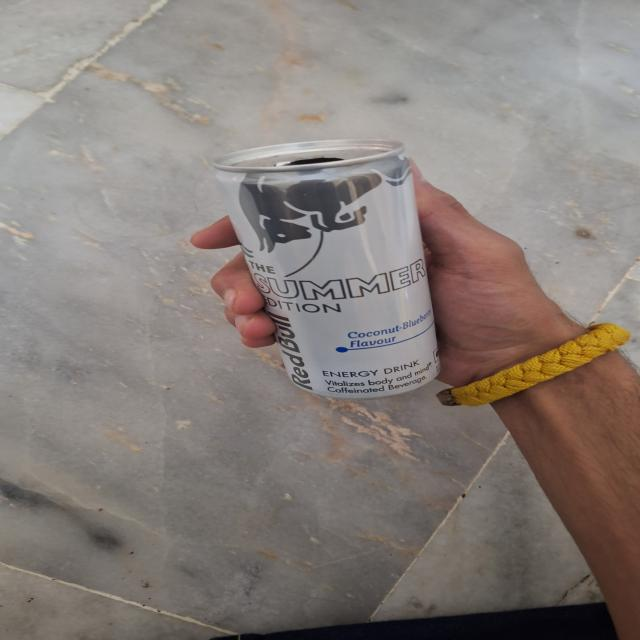Redbull Summer Edition: (206, 140, 450, 413)
